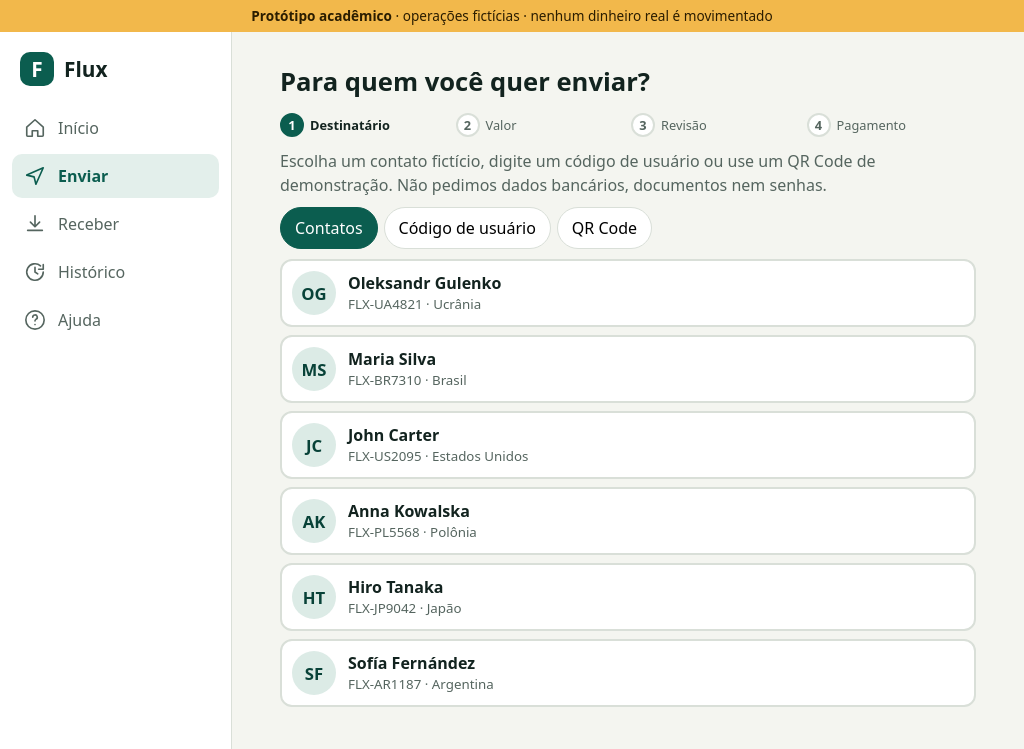
Test: identificação do destinatário sem dados bancários › por código de usuário
The image size is (1024, 749).
Click the button "Código de usuário" at (467, 228), box [384,208,551,250]
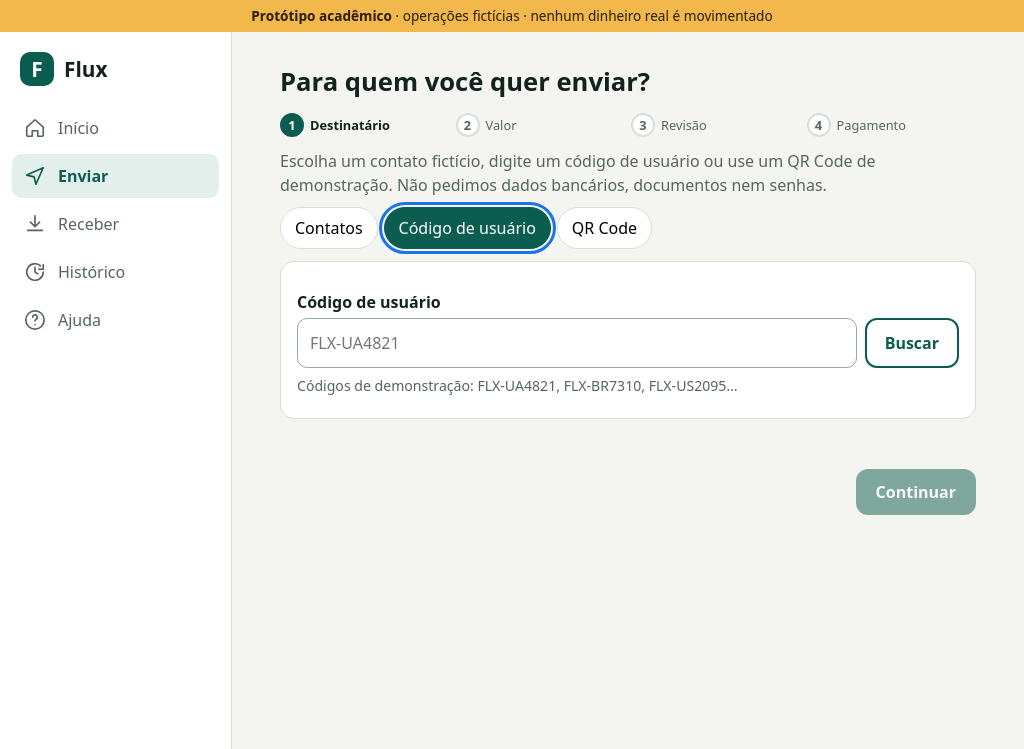
Type "flx-gb6203" into the field labelled "Código de usuário" at (577, 344), box [297,318,857,368]
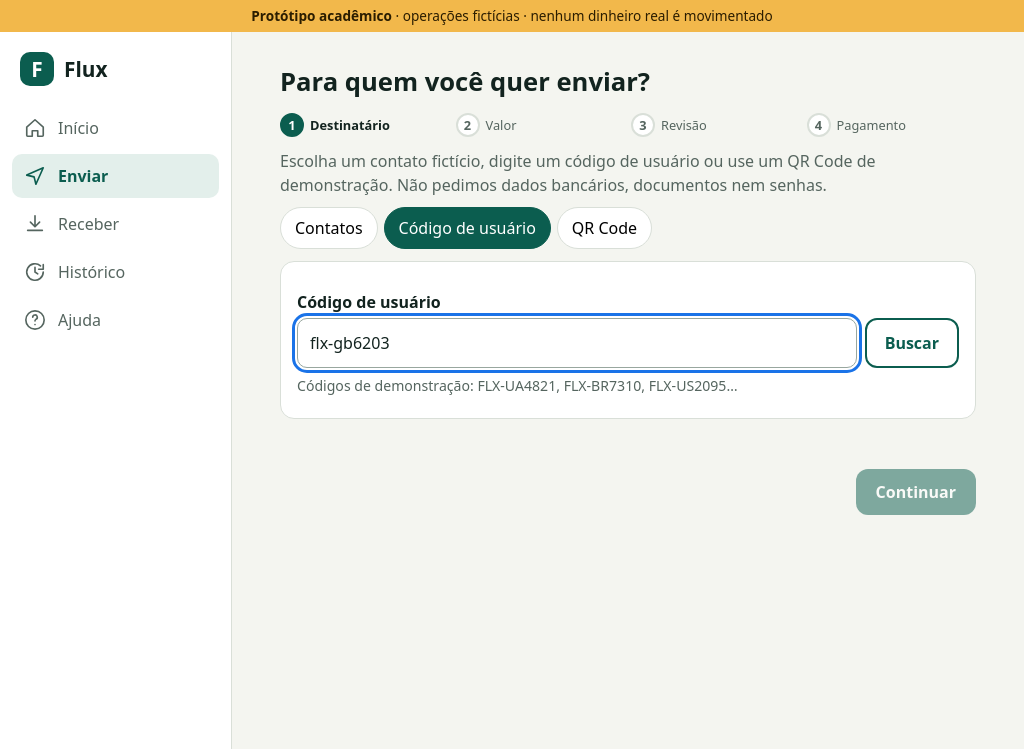
Click the button "Buscar" at (912, 344), box [865,318,959,368]
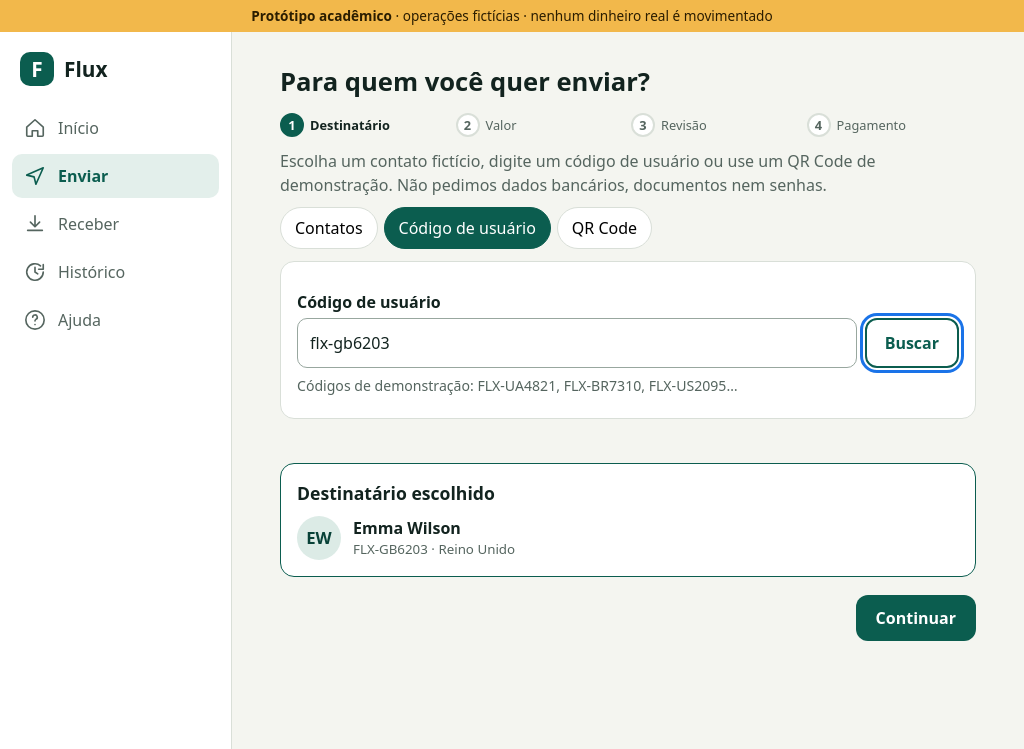
Expected: the text "Destinatário escolhido" shows "Emma Wilson", [353,516,461,538]
